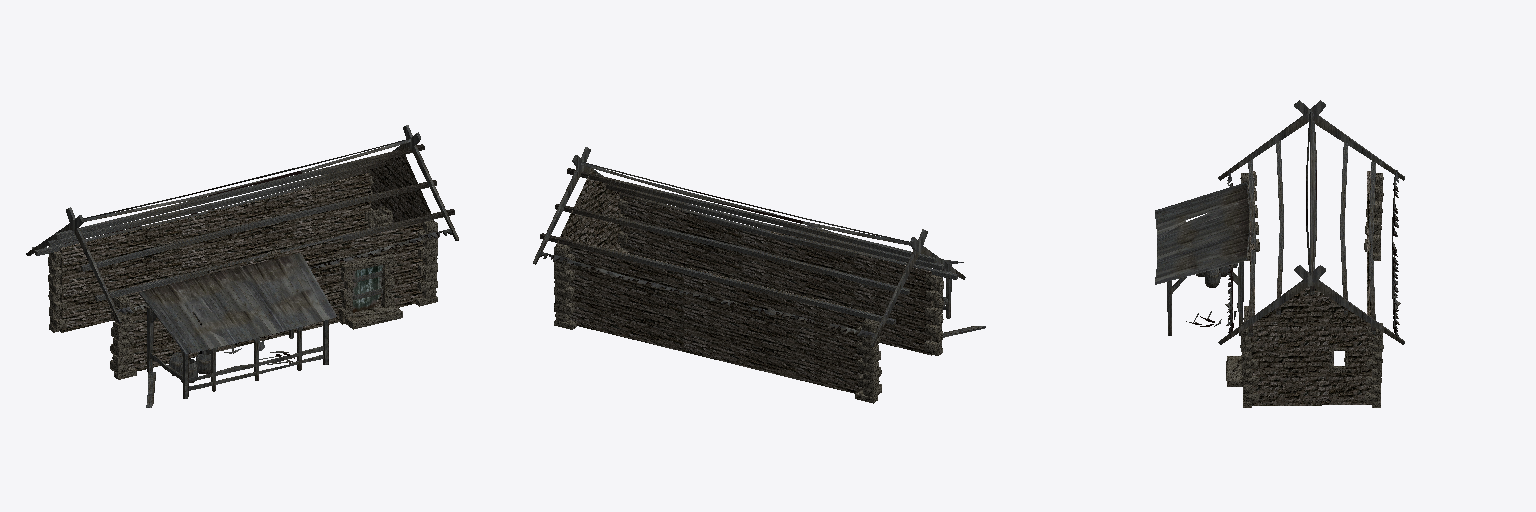
3 views of the same model, side by side, from view 1: azimuth 30°, elevation 25°; view 2: azimuth 150°, elevation 25°; view 3: azimuth 270°, elevation 25° (orthographic).
Parts seen in each view (by area): view 1: Group000; view 2: Group000; view 3: Group000.
Boxes of the visible parts, x1=… form: Group000: x1=26, y1=125, x2=458, y2=407; Group000: x1=533, y1=147, x2=985, y2=403; Group000: x1=1155, y1=100, x2=1404, y2=407.
Bounding box in the file's own units: 13.47 × 5.2 × 7.97.
1 materials, 1 textured.